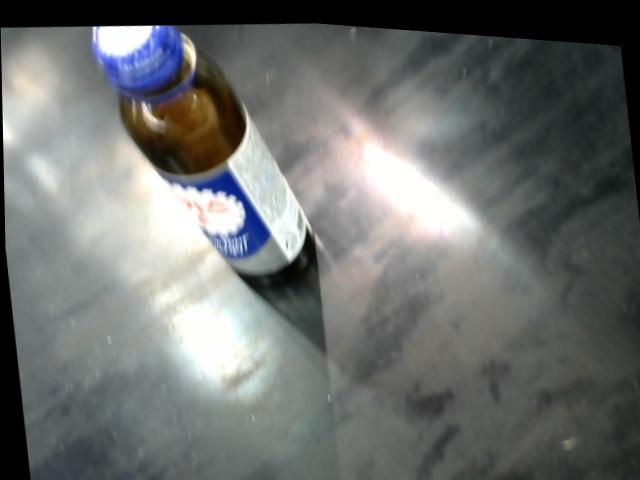glass: (83, 23, 333, 299)
